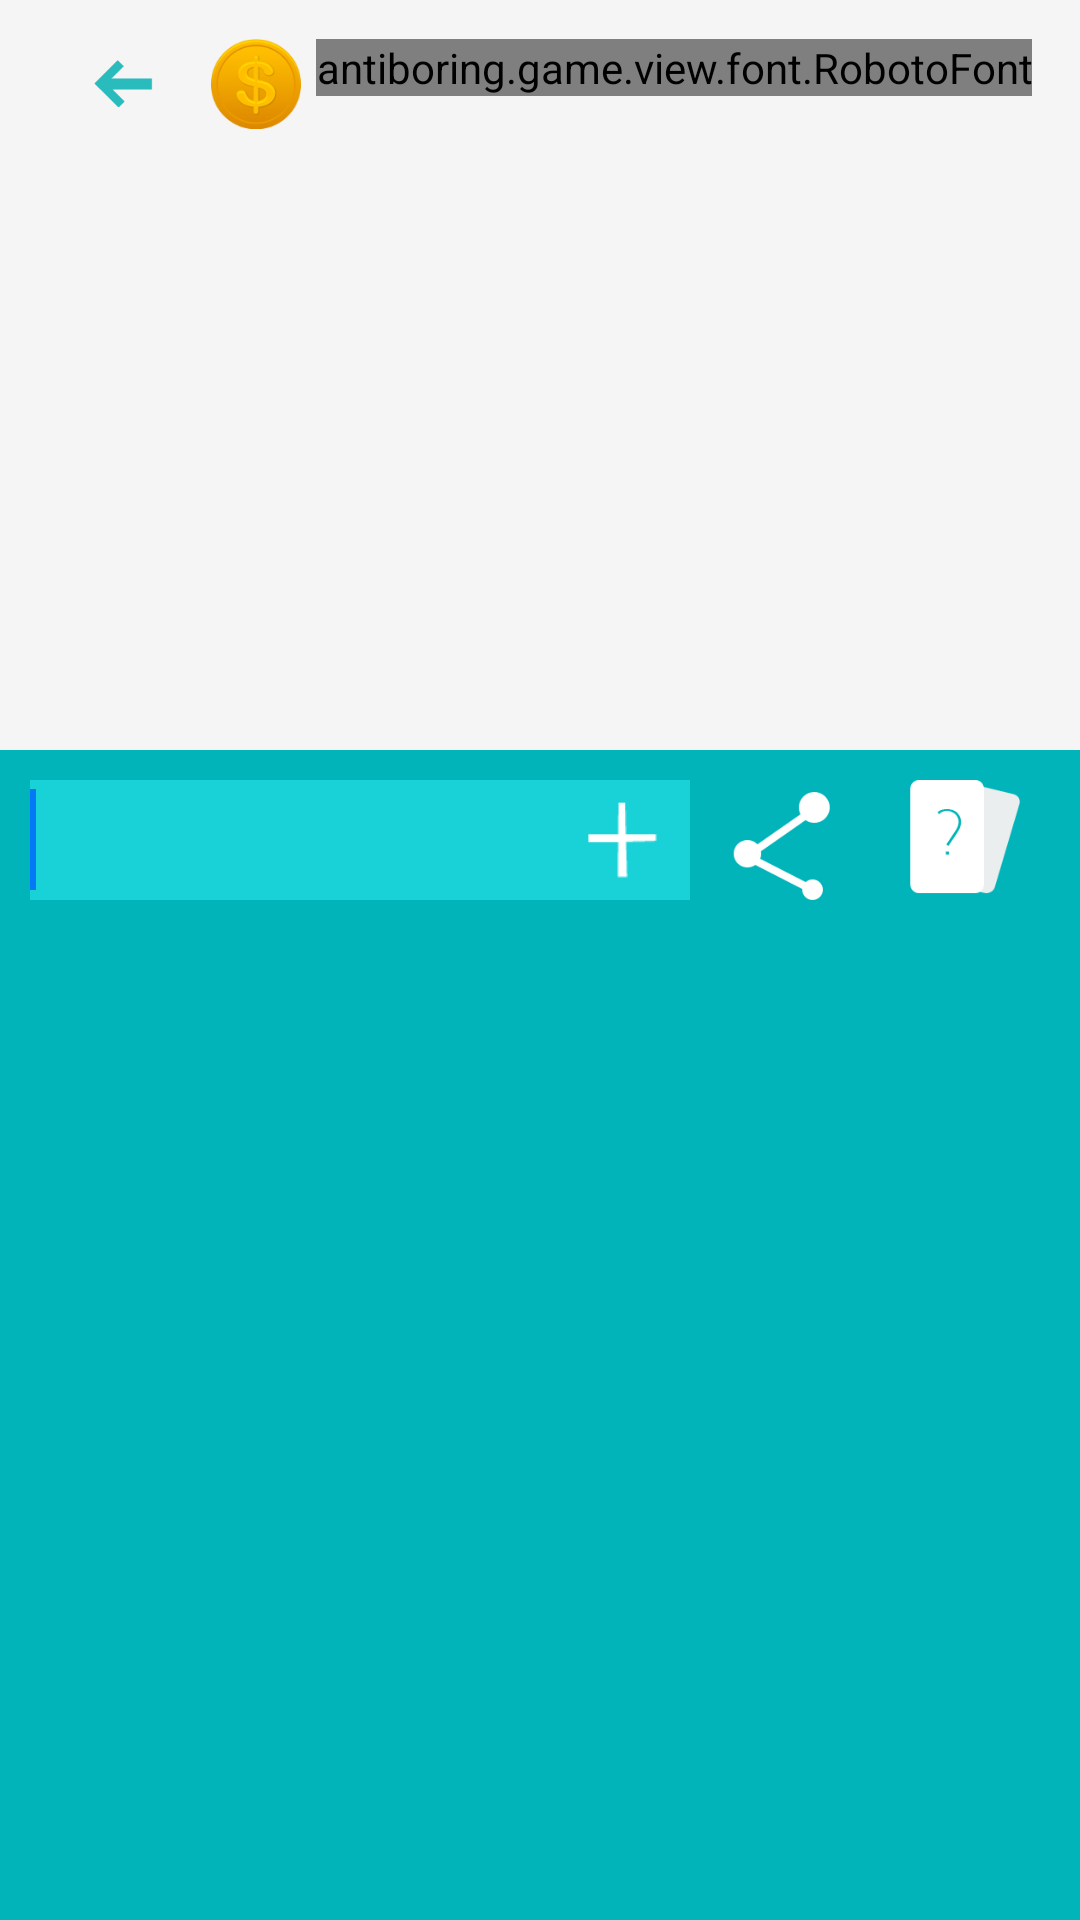

Named icons in this screenshot (1080*1920) and their bounding boxes, (left=x1, top=y1, right=x2, bottom=y2):
coins: (left=211, top=39, right=301, bottom=129)
help: (left=910, top=780, right=1020, bottom=893)
panahback: (left=94, top=60, right=152, bottom=107)
share: (left=733, top=792, right=830, bottom=900)
tambah: (left=588, top=802, right=657, bottom=878)
